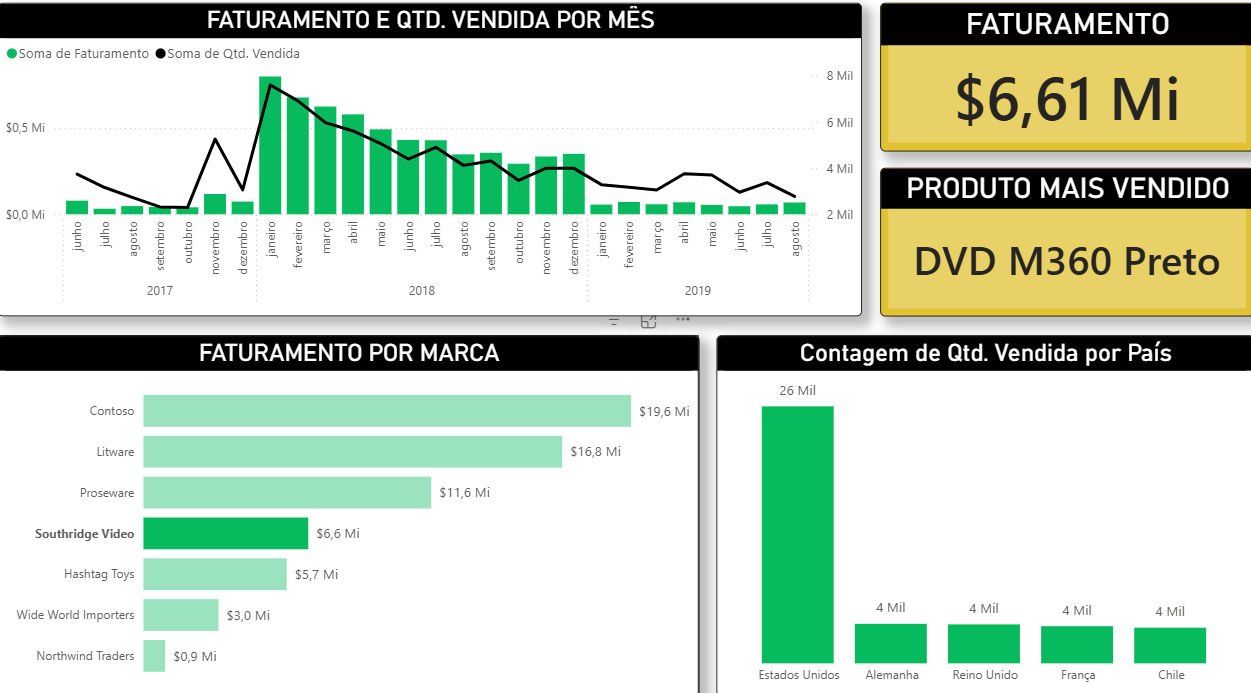

The page's visual inventory and layout, read from the dashboard file:
{"tool":"powerbi","page":{"name":"Relatório de Vendas","canvas":[1280,720],"ordinal":0},"visuals":[{"type":"cardVisual","title":"FATURAMENTO","fields":{"Data":["Sum(BaseVendas.Faturamento)"]},"box":[892,14,372,148],"z":0},{"type":"cardVisual","title":"PRODUTO MAIS VENDIDO ","fields":{"Data":["Min(BaseVendas.Produto)"]},"box":[892,178,372,148],"z":1000},{"type":"barChart","title":"FATURAMENTO POR MARCA","fields":{"Y":["Sum(BaseVendas.Faturamento)"],"Category":["BaseVendas.Marca"]},"box":[14,344,698,360],"z":2000},{"type":"lineStackedColumnComboChart","title":"FATURAMENTO E QTD. VENDIDA POR MÊS","fields":{"Y":["Sum(BaseVendas.Faturamento)"],"Category":["BaseVendas.Data da Venda.Variation.Hierarquia de datas.Ano","BaseVendas.Data da Venda.Variation.Hierarquia de datas.Mês"],"Y2":["Sum(BaseVendas.Qtd. Vendida)"]},"box":[14,14,860,312],"z":3000},{"type":"lineStackedColumnComboChart","fields":{"Category":["BaseVendas.País"],"Y":["CountNonNull(BaseVendas.Qtd. Vendida)"]},"box":[729,344.6,534.9,359.5],"z":3001}]}

Visuals, with their boxes in screenshot pixels (x1, y1, x2, y2), scaled from the page's 1280x720 canvas onto the 1251x693 screenshot:
"FATURAMENTO" cardVisual: box(872, 13, 1235, 156)
"PRODUTO MAIS VENDIDO " cardVisual: box(872, 171, 1235, 314)
"FATURAMENTO POR MARCA" barChart: box(14, 331, 696, 678)
"FATURAMENTO E QTD. VENDIDA POR MÊS" lineStackedColumnComboChart: box(14, 13, 854, 314)
lineStackedColumnComboChart - BaseVendas.País x CountNonNull(BaseVendas.Qtd. Vendida): box(712, 332, 1235, 678)
